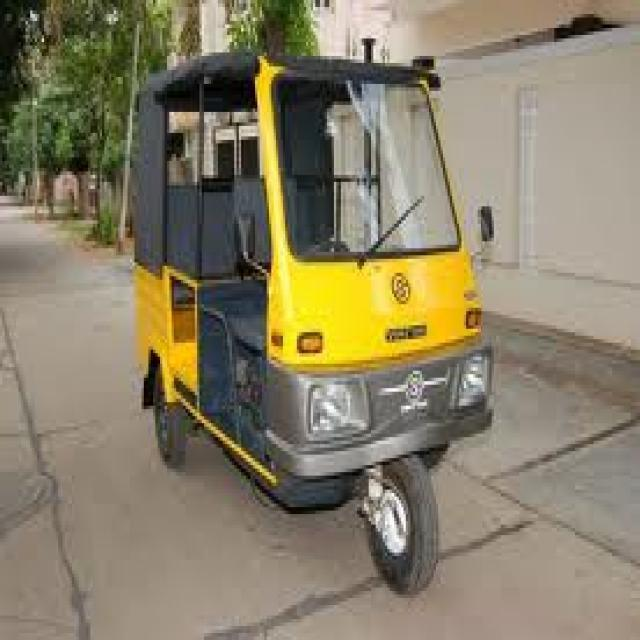auto_front: (128, 47, 496, 596)
